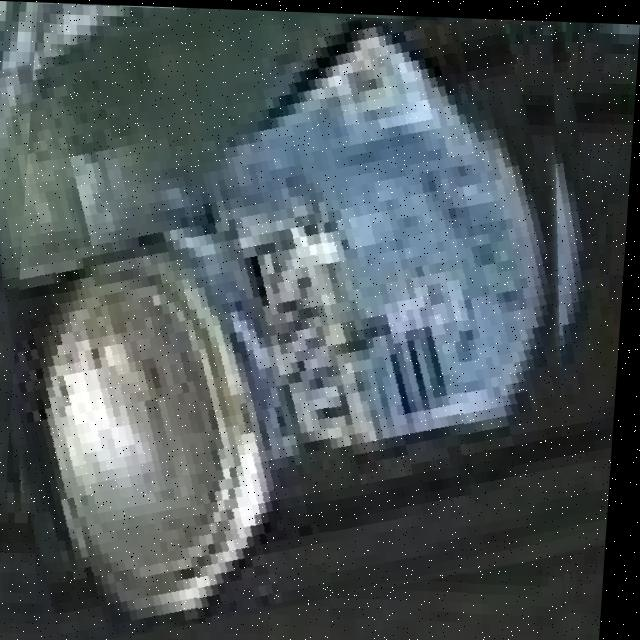litter: (17, 12, 569, 634)
